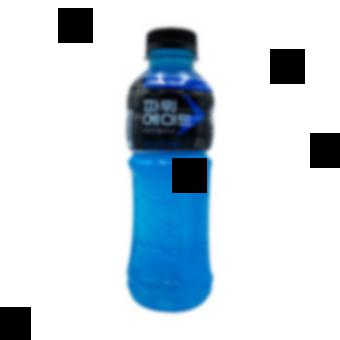powerade_mountainblast: (116, 20, 220, 316)
